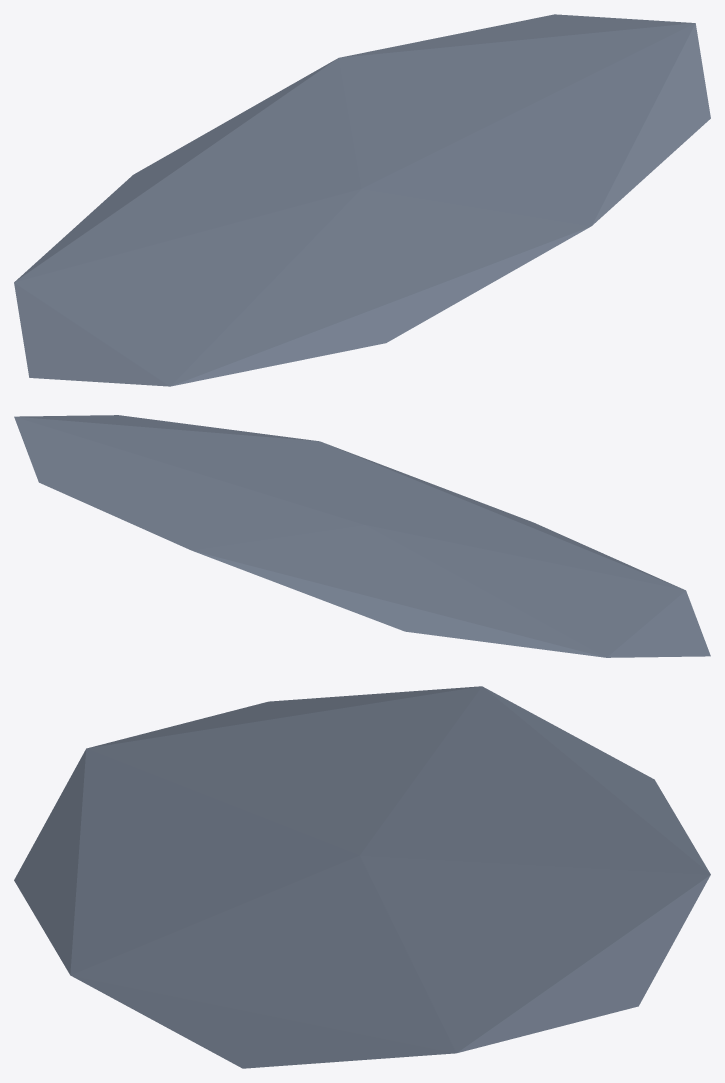
The model's file is EXTG_SouthRoad_10.glb.
3 views of the same model, one above another, from view 1: azimuth 30°, elevation 25°; view 2: azimuth 150°, elevation 25°; view 3: azimuth 270°, elevation 25° (orthographic). The views are drawn at different scales.
Parts seen in each view (by area): view 1: EXTG_SouthRoad_10; view 2: EXTG_SouthRoad_10; view 3: EXTG_SouthRoad_10.
Part boxes in pixels (x1=…): EXTG_SouthRoad_10: x1=14, y1=14, x2=710, y2=386; EXTG_SouthRoad_10: x1=14, y1=415, x2=710, y2=657; EXTG_SouthRoad_10: x1=14, y1=686, x2=710, y2=1068.
Size of the model in its own units: 2.04 by 0.3642 by 1.06.
